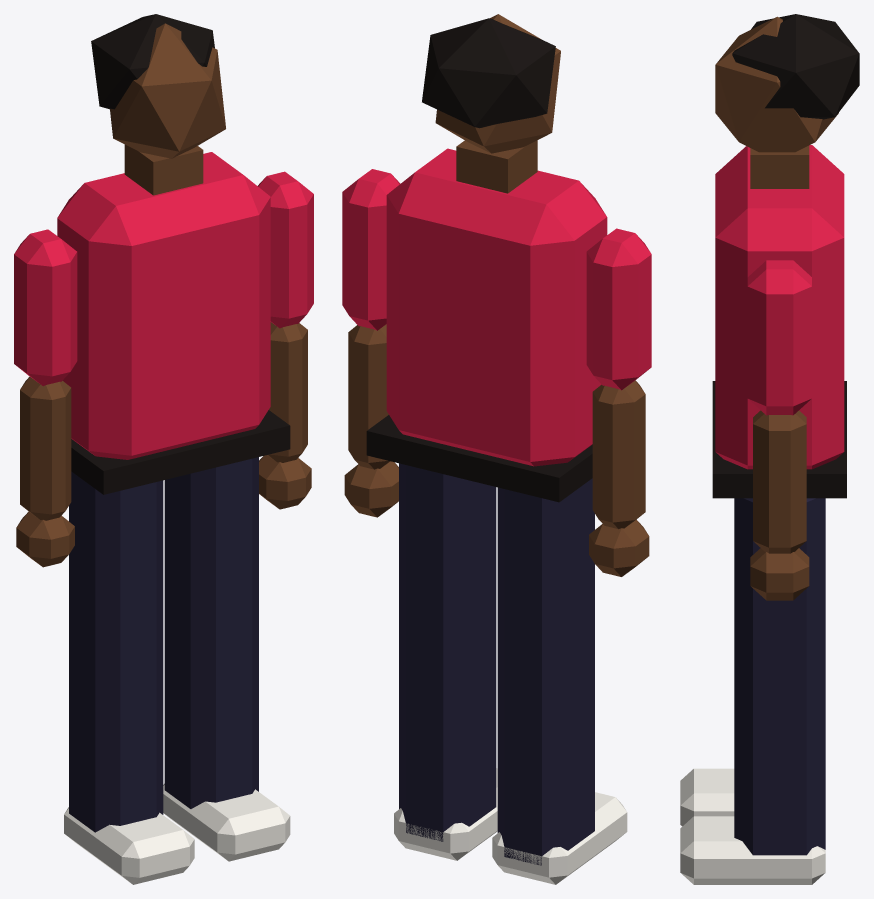
File: fan.glb
3 renders of one model, left to right at view 1: azimuth 30°, elevation 25°; view 2: azimuth 150°, elevation 25°; view 3: azimuth 270°, elevation 25°, orthographic. The views are drawn at different scales.
Visible parts, largest first — view 1: body, armL, armR; view 2: body, armL, armR; view 3: body, armR.
Part boxes in pixels (x1,y1,x2,y2): body: [57, 14, 290, 884]; armL: [14, 229, 77, 567]; armR: [258, 171, 313, 509]; body: [366, 14, 627, 884]; armL: [586, 228, 651, 576]; armR: [342, 169, 400, 517]; body: [680, 14, 859, 884]; armR: [747, 260, 811, 600].
Bounding box in the file's own units: 0.63 × 1.71 × 0.3332.
